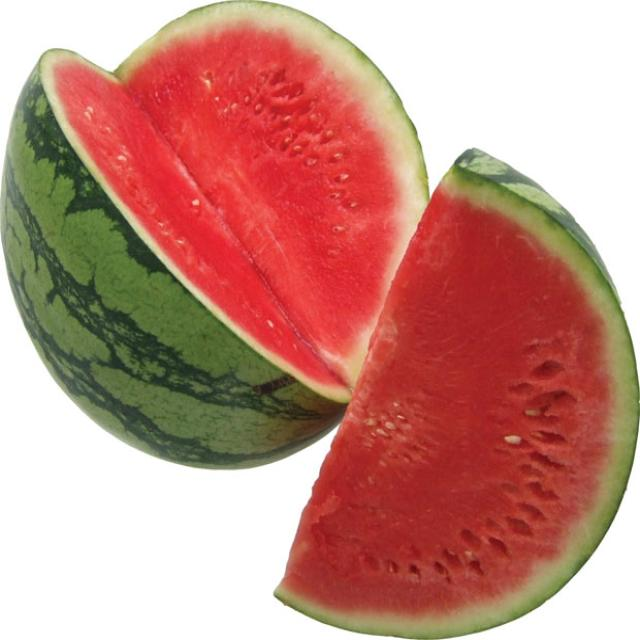Watermelon: (1, 3, 429, 468), (276, 150, 640, 637)
